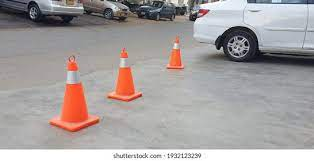car: (195, 1, 314, 61), (1, 1, 85, 23), (83, 1, 130, 21), (136, 1, 177, 21)
cone: (49, 55, 102, 135), (107, 49, 142, 103), (163, 37, 187, 70)
